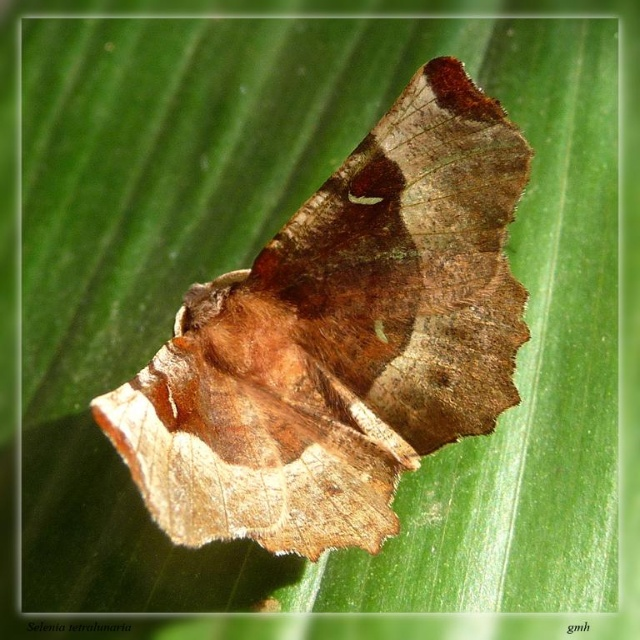Butterfly: (93, 51, 534, 561)
